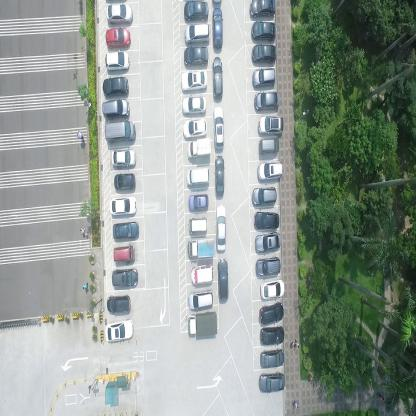car: (187, 310, 217, 338), (186, 235, 215, 263), (104, 318, 134, 344), (104, 120, 135, 145), (180, 70, 209, 93), (259, 300, 284, 326), (255, 254, 281, 279), (188, 286, 214, 310), (256, 158, 282, 182), (258, 370, 285, 393), (254, 230, 281, 253), (108, 195, 137, 216), (259, 345, 285, 368), (104, 28, 131, 50), (102, 100, 129, 122), (182, 118, 207, 141), (260, 276, 285, 299), (112, 220, 138, 242), (106, 3, 132, 25), (258, 114, 284, 136), (250, 20, 276, 42), (102, 76, 128, 98), (182, 0, 209, 21), (183, 23, 210, 44), (190, 262, 213, 286), (260, 324, 284, 347), (215, 201, 226, 251), (106, 293, 131, 315), (186, 138, 212, 159), (253, 210, 279, 231), (211, 55, 223, 100), (217, 256, 229, 301), (212, 105, 224, 149), (252, 66, 276, 88), (104, 52, 129, 73), (181, 95, 206, 116), (111, 148, 136, 169), (250, 43, 276, 63), (112, 268, 138, 288), (183, 46, 208, 66), (185, 166, 210, 186), (254, 90, 279, 110), (249, 0, 276, 18), (212, 5, 223, 49), (252, 186, 276, 206), (214, 154, 225, 197), (187, 214, 208, 236), (258, 135, 278, 156), (188, 192, 209, 211), (114, 173, 135, 192), (113, 245, 135, 263)
